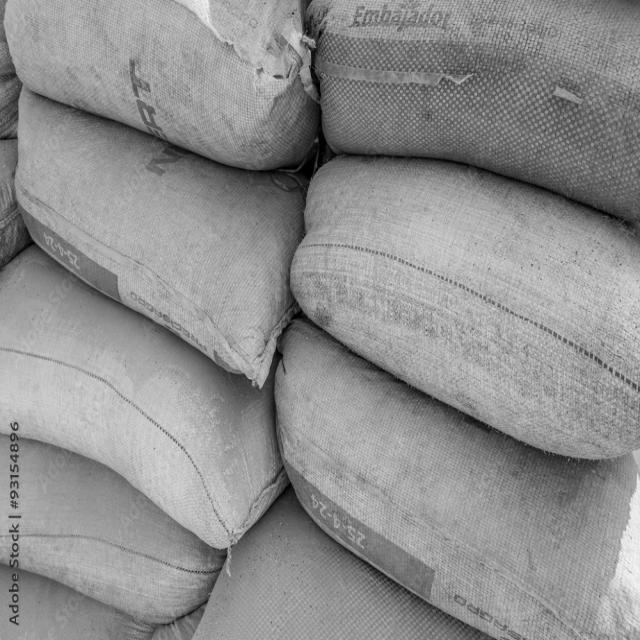sack: (274, 314, 640, 640), (290, 153, 640, 457), (13, 81, 304, 388), (1, 242, 291, 550), (314, 1, 640, 221), (4, 2, 315, 173), (1, 434, 226, 624)
